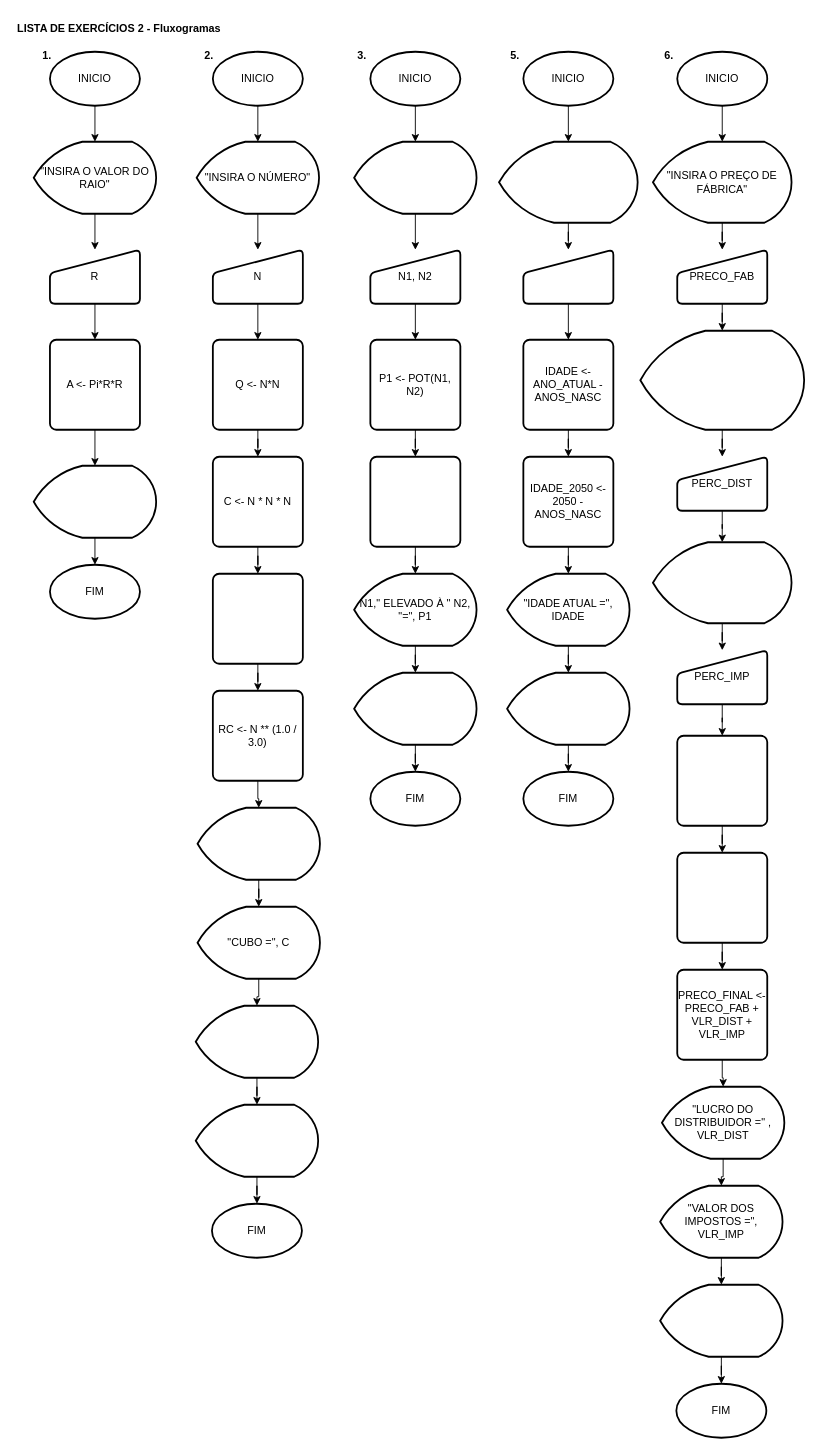
The diagram is 820 pixels wide and 1454 high, and some of its shapes have lost their labels. The shapes that lost their labels are listed below. From the top down, each one's centre as x and y in pixels, then its label:
pixel 415 177: "INSIRA OS NÚMEROS"
pixel 568 181: "INSIRA O ANO DE NASCIMENTO E DEPOIS O ANO ATUAL"
pixel 568 276: ANOS_NASC, ANO_ATUAL
pixel 722 379: "INSIRA O PERCENTUAL DE LUCRO DO DISTRIBUIDOR"
pixel 94 501: "ÁREA É ", A
pixel 415 501: P2 <- POT(N2, N1)
pixel 722 582: "INSIRA O PERCENTUAL DE IMPOSTOS"
pixel 257 618: RQ <- N ** (1.0 / 2.0)
pixel 415 708: N2," ELEVADO À " N1 ,"=", P2
pixel 568 708: "IDADE EM 2050 =", IDADE_2050
pixel 722 780: VLR_DIST <- PRECO_FAB * (PERC_DIST / 100)
pixel 258 843: "QUADRADO =", Q
pixel 722 897: VLR_IMP <- PRECO_FAB * (PERC_IMP / 100)
pixel 256 1041: "RAIZ QUADRADA = ", RQ
pixel 256 1140: "RAIZ CÚBICA = ", RC
pixel 721 1320: "PREÇO FINAL DO VEÍCULO =", PRECO_FINAL
